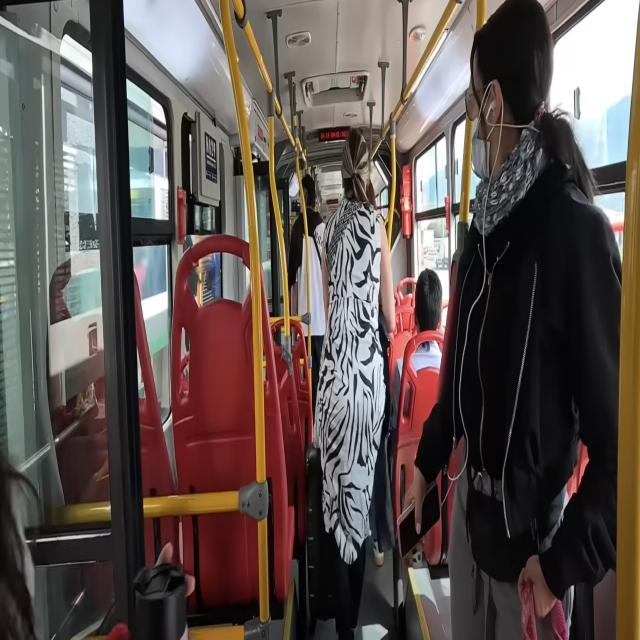Persona: (413, 0, 621, 637), (288, 129, 395, 566), (471, 0, 554, 123), (415, 269, 442, 333)
